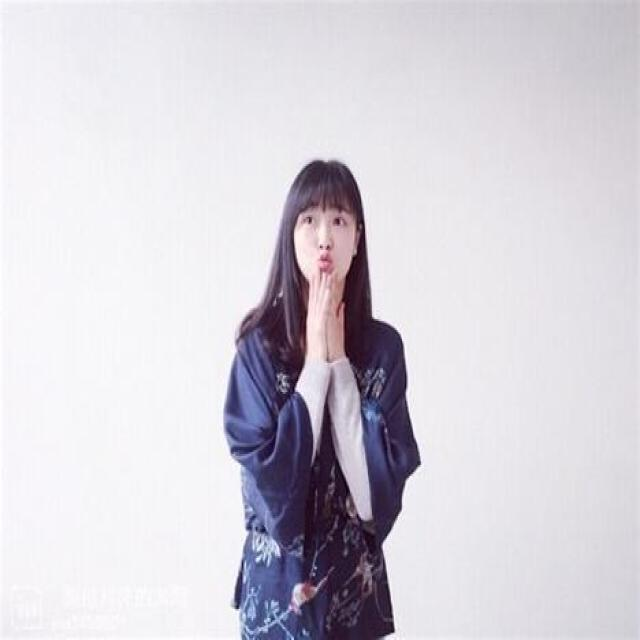long sleeve top: (228, 308, 420, 638)
